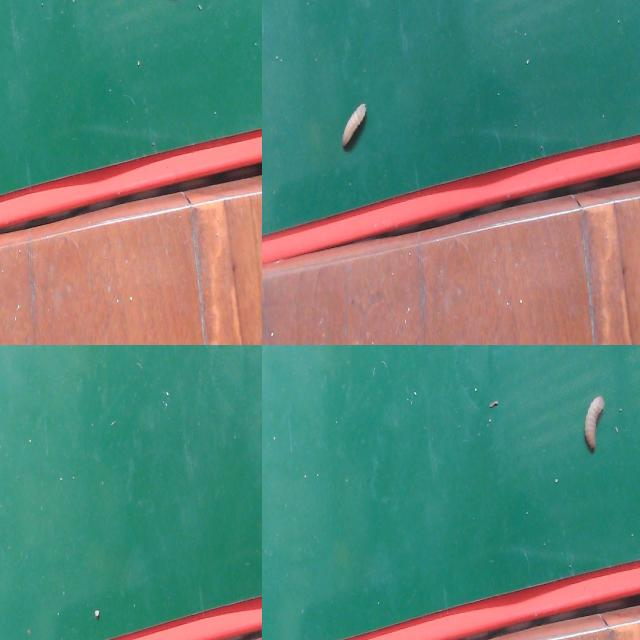Maggot: (339, 102, 367, 152), (582, 396, 606, 454)
